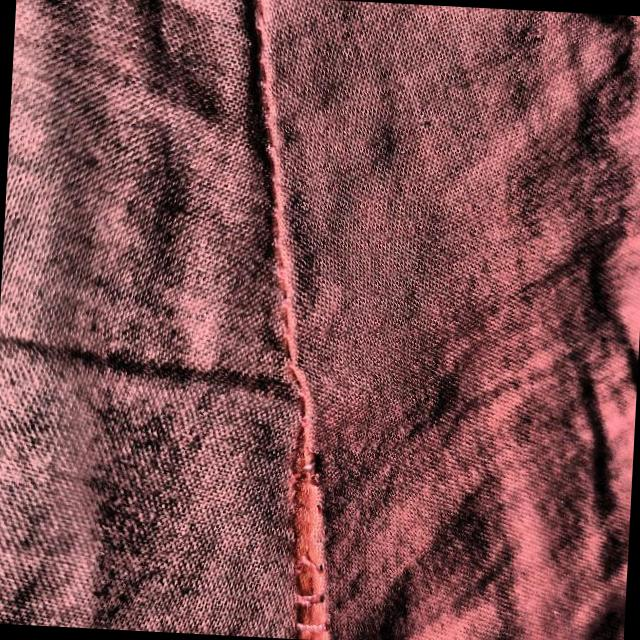gray stitch: (227, 400, 455, 640)
